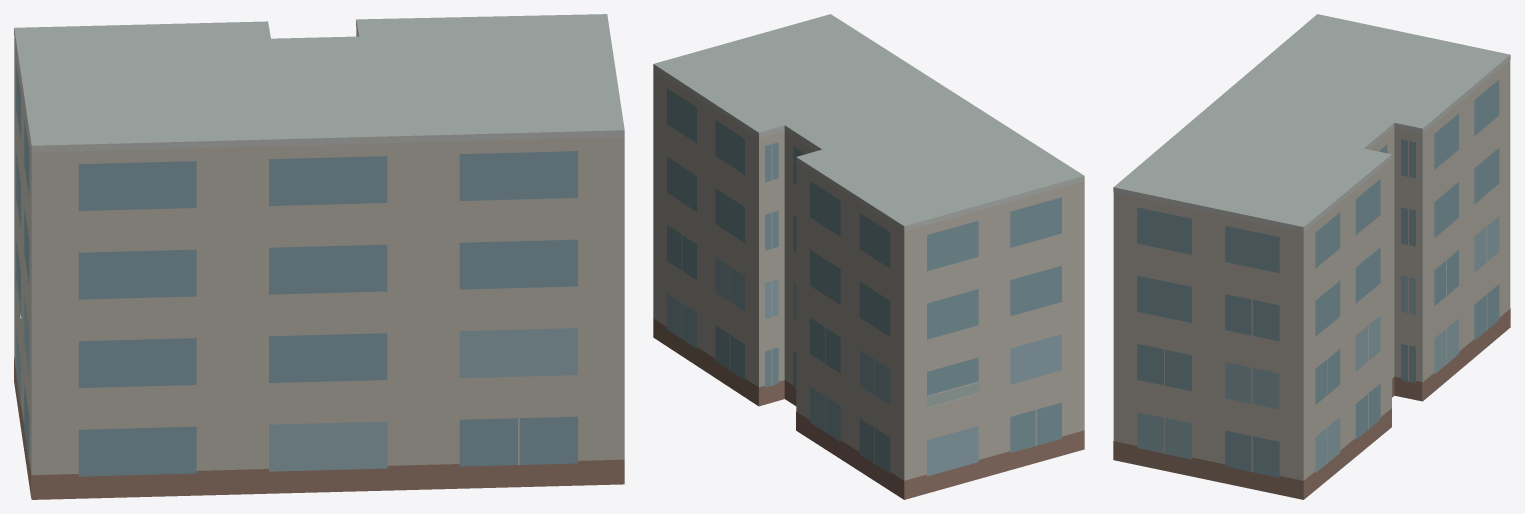
Rendered from survey-upis-32632720.glb.
The picture shows the model from 3 angles, left to right: view 1: azimuth 30°, elevation 25°; view 2: azimuth 150°, elevation 25°; view 3: azimuth 270°, elevation 25°; orthographic projection. The views are drawn at different scales.
Parts seen in each view (by area): view 1: survey-upis-32632720.tmp; view 2: survey-upis-32632720.tmp; view 3: survey-upis-32632720.tmp.
Boxes of the visible parts, x1,y1,x2,y2 form: survey-upis-32632720.tmp: [14, 14, 624, 499]; survey-upis-32632720.tmp: [653, 14, 1084, 499]; survey-upis-32632720.tmp: [1113, 14, 1510, 499].
Bounding box in the file's own units: 21.45 × 12.8 × 16.89.
